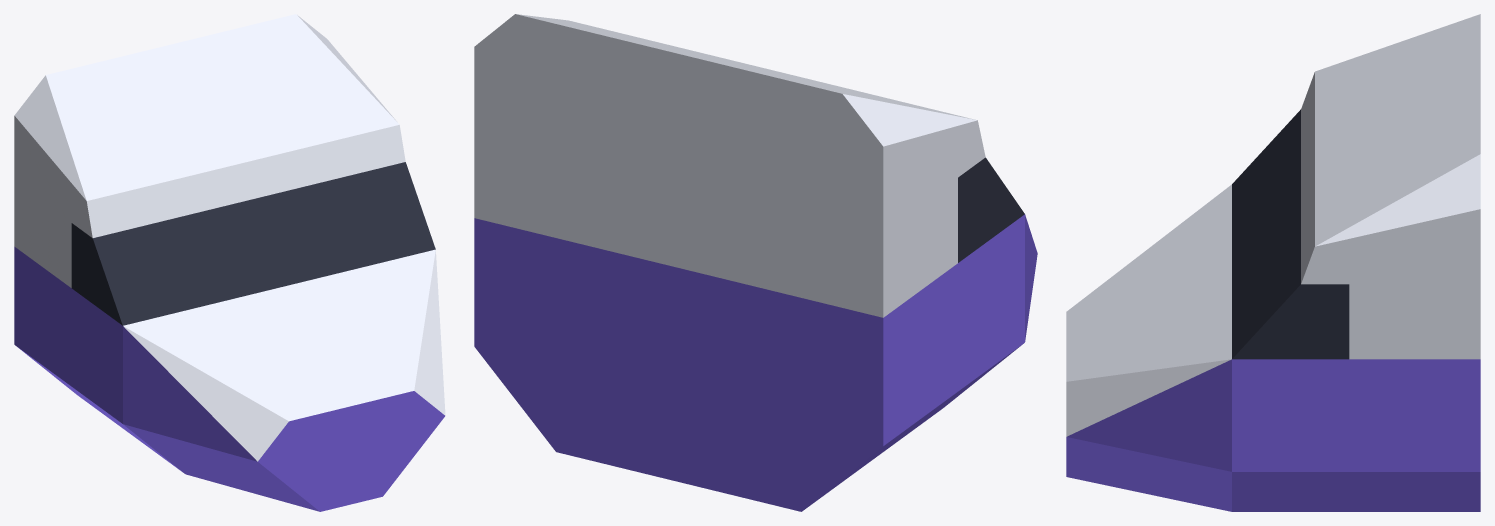
File: Cabin_2.fbx
3 renders of one model, left to right at view 1: azimuth 30°, elevation 25°; view 2: azimuth 150°, elevation 25°; view 3: azimuth 270°, elevation 25°, orthographic. The views are drawn at different scales.
Visible parts, largest first — view 1: mergedBlocks; view 2: mergedBlocks; view 3: mergedBlocks.
Part boxes in pixels (left/top/right/bottom): mergedBlocks: left=14, top=14, right=445, bottom=511; mergedBlocks: left=474, top=14, right=1037, bottom=511; mergedBlocks: left=1066, top=14, right=1480, bottom=511.
Bounding box in the file's own units: 10 × 10 × 10.
